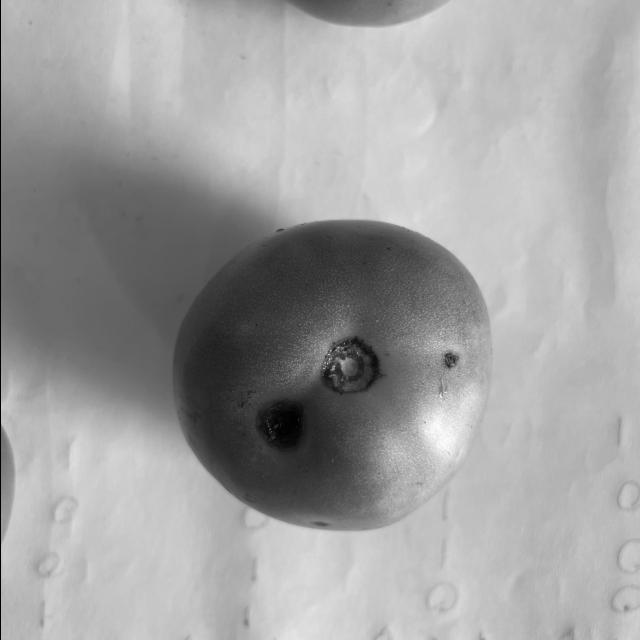fruitworm_bore: (244, 392, 314, 451), (431, 340, 472, 380)
